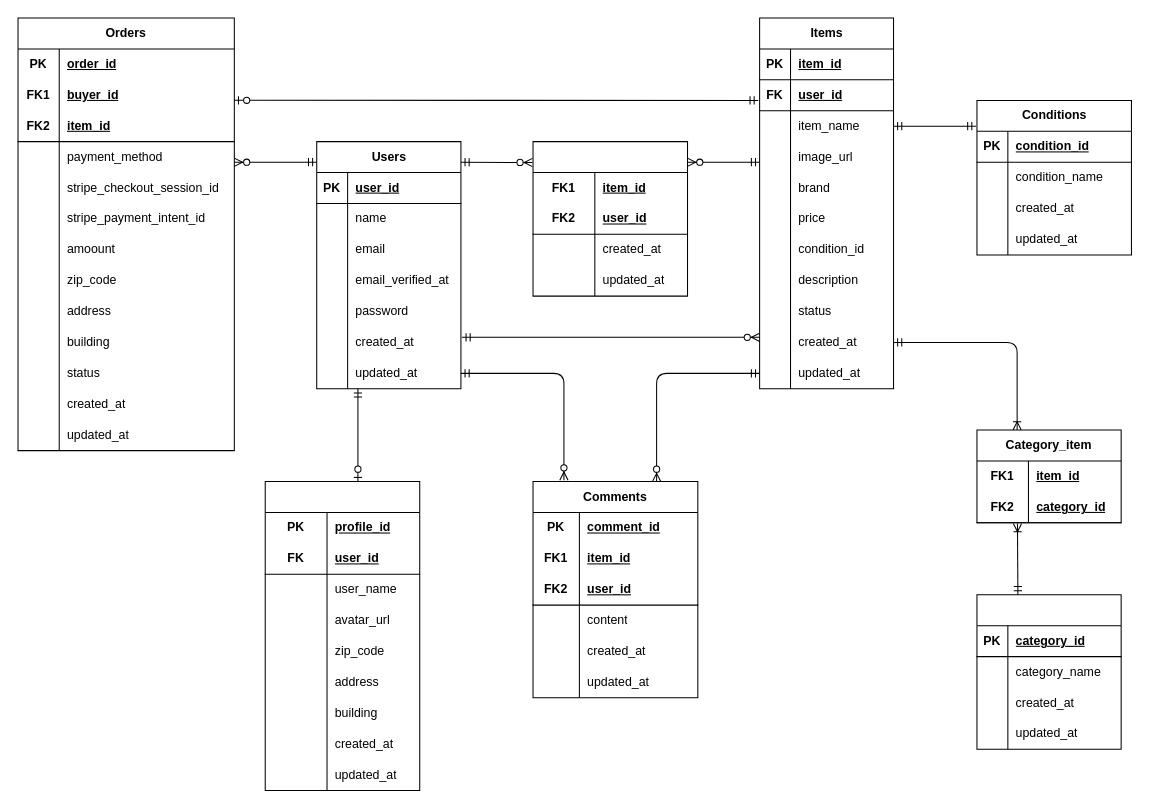
The diagram is 1149 pixels wide and 809 high, and some of its shapes have lost their labels. The shapes that lost their labels are listed below. From the top down, each one's box as (x1, y1, x2, y2) in pixels, then its label:
(532, 141, 688, 296): Favorites
(264, 480, 420, 791): Profiles
(976, 594, 1121, 749): Categories
